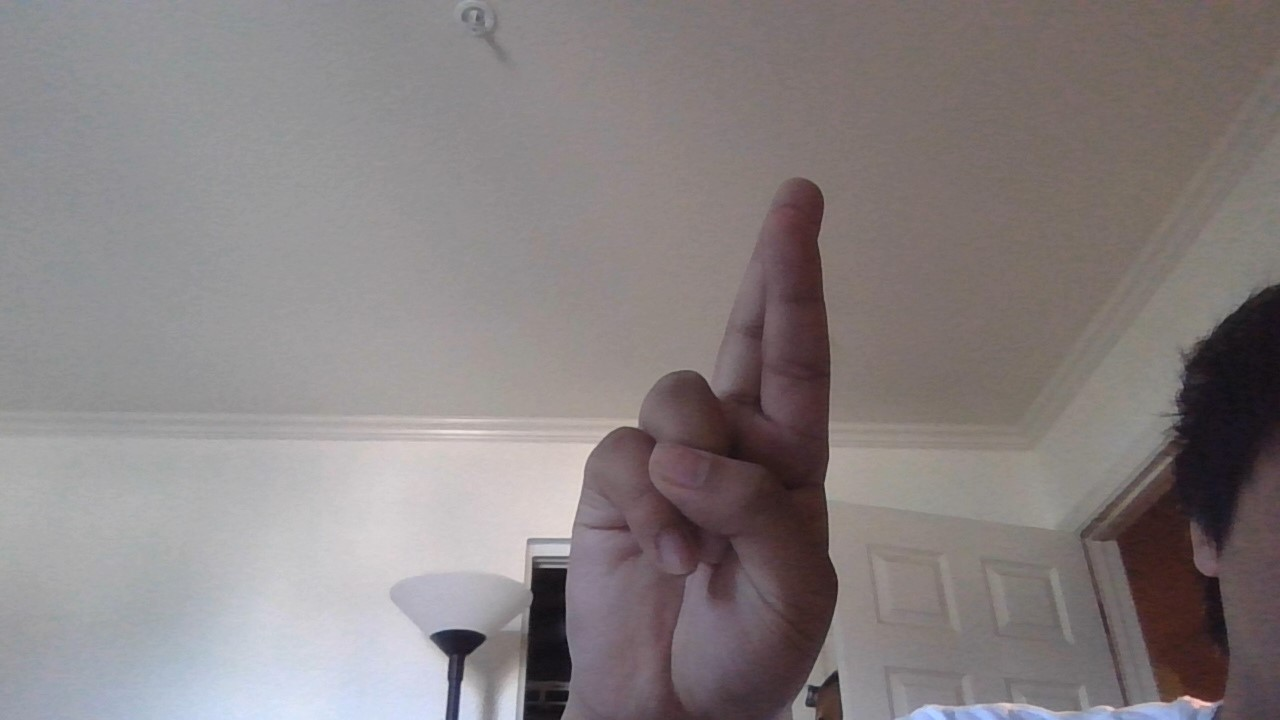r: (530, 153, 896, 720)
